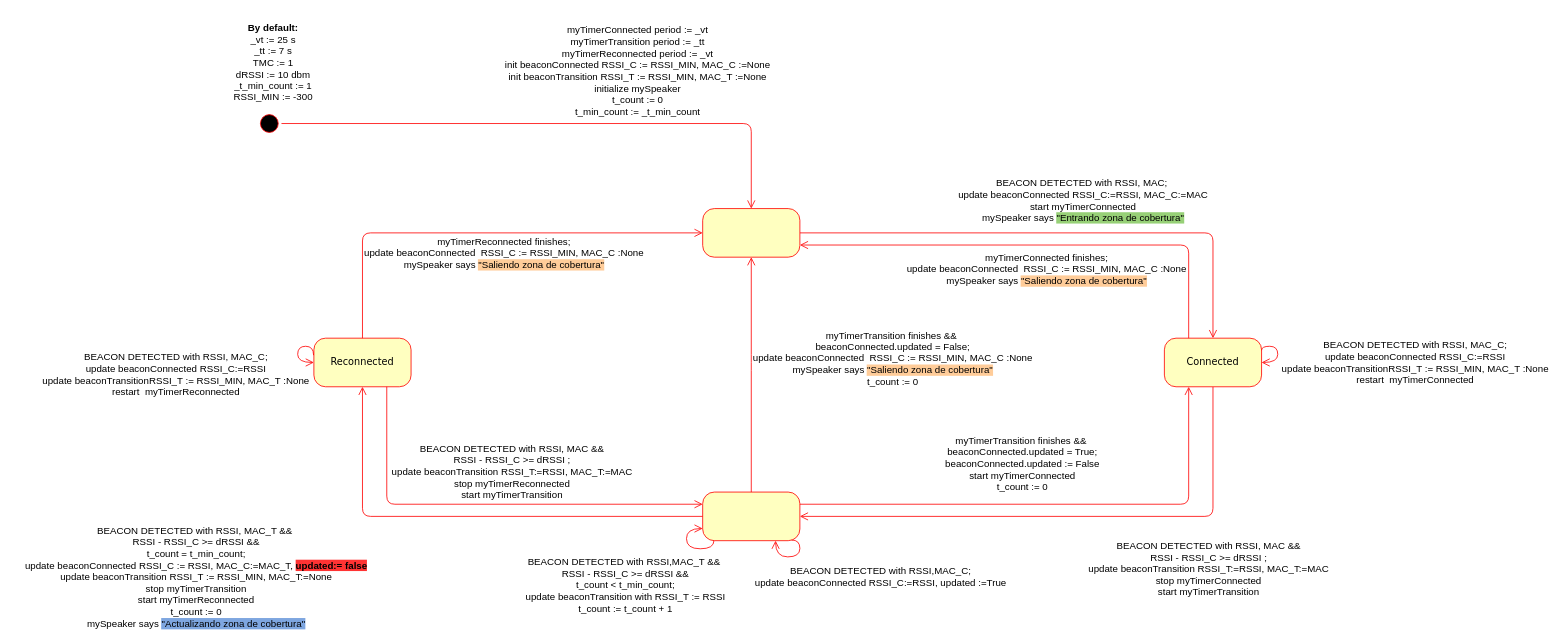
Image size: 1567x643. Some labels were removed from this diagram. Here are the shapes that lost their labels. From the top down, the centre of each, then its label:
the point at 751,232: Disconnected
the point at 751,516: Transition
